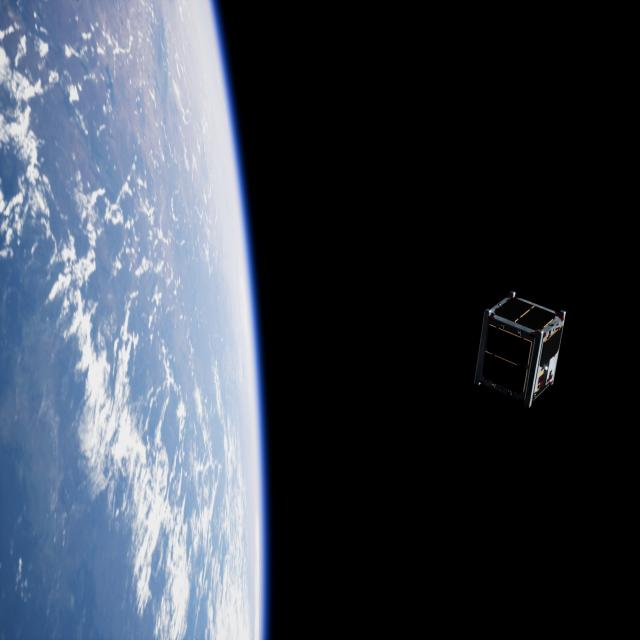medium_debris: (471, 286, 575, 411)
